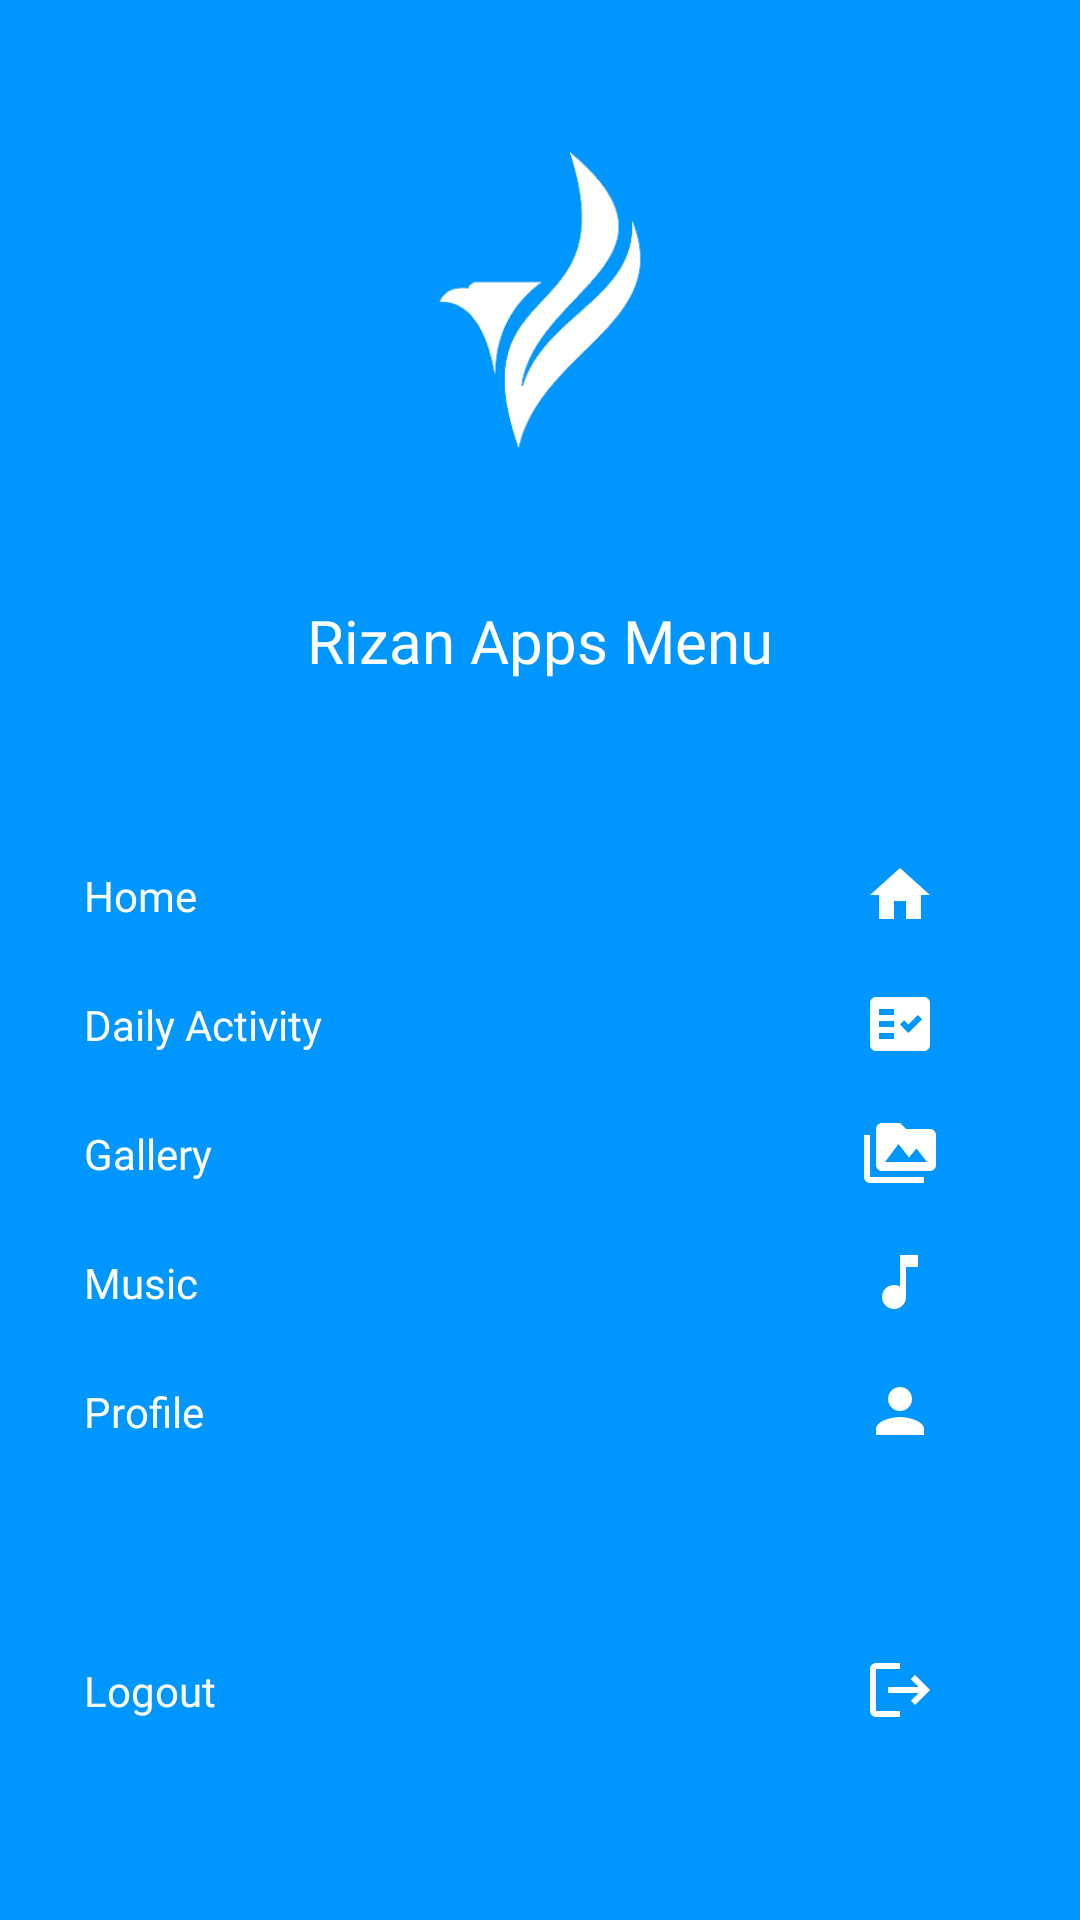

Where to tap for icons on this 1080×1920 app screen, as point (x, y):
fact: point (900, 1024)
media: point (900, 1153)
